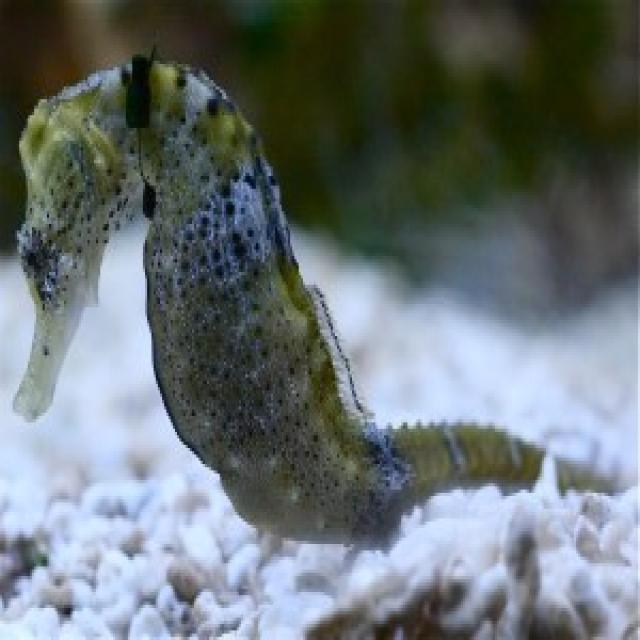Seahorse: (15, 52, 545, 552)
